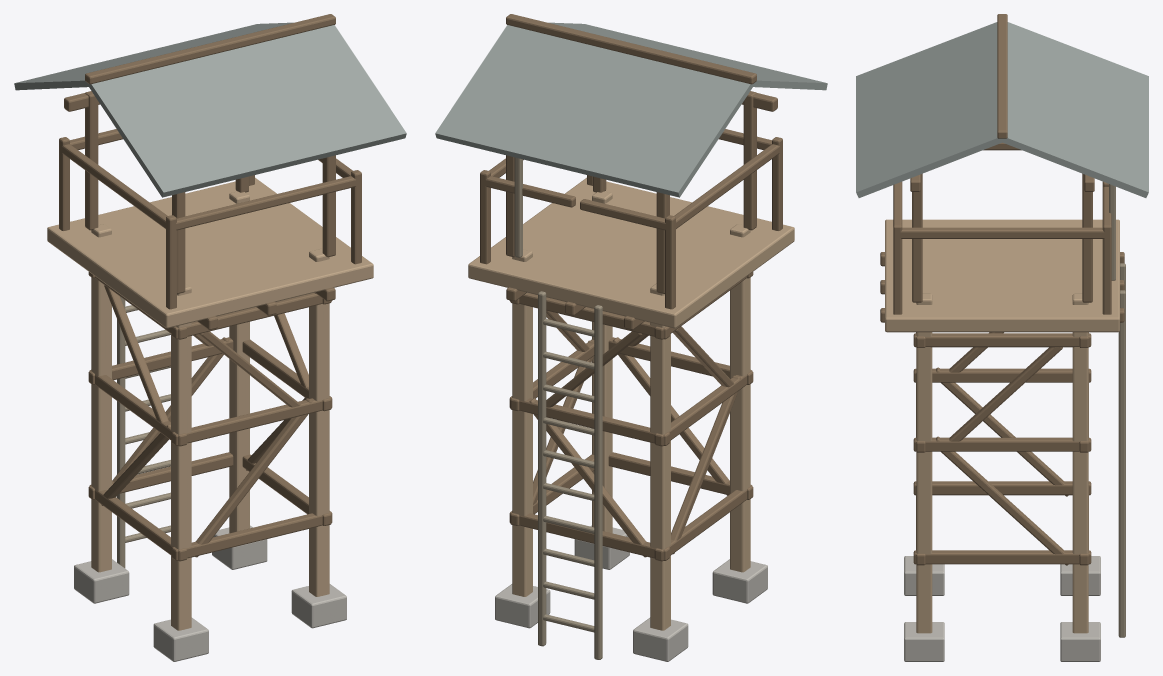
The model's file is rv_ranger_tower.gltf.
3 renders of one model, left to right at view 1: azimuth 30°, elevation 25°; view 2: azimuth 150°, elevation 25°; view 3: azimuth 270°, elevation 25°, orthographic. The views are drawn at different scales.
Parts seen in each view (by area): view 1: RV_RangerTower; view 2: RV_RangerTower; view 3: RV_RangerTower.
Part boxes in pixels (x1,y1,x2,y2): RV_RangerTower: (14, 14, 406, 661); RV_RangerTower: (435, 14, 827, 661); RV_RangerTower: (856, 14, 1148, 661).
Bounding box in the file's own units: 3.15 × 6.85 × 3.3.
